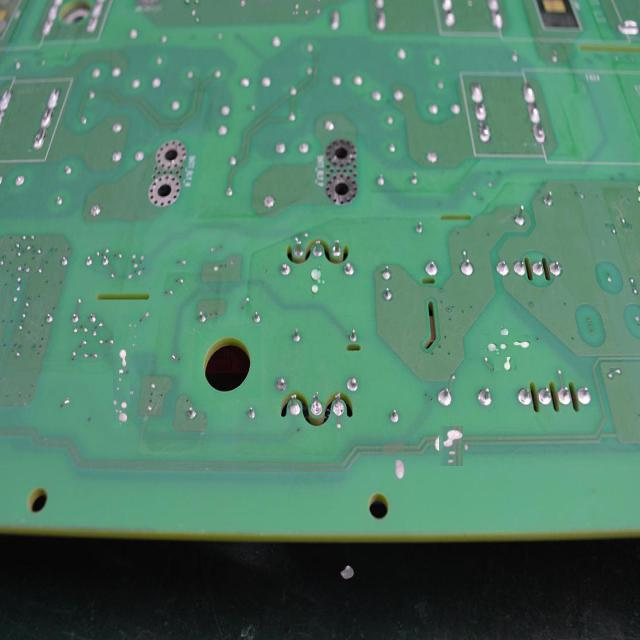spillover: (114, 348, 132, 428), (487, 328, 524, 364), (435, 430, 467, 463), (308, 261, 327, 299)
